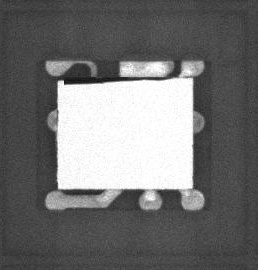DIE_BROKEN: (62, 75, 173, 85)
